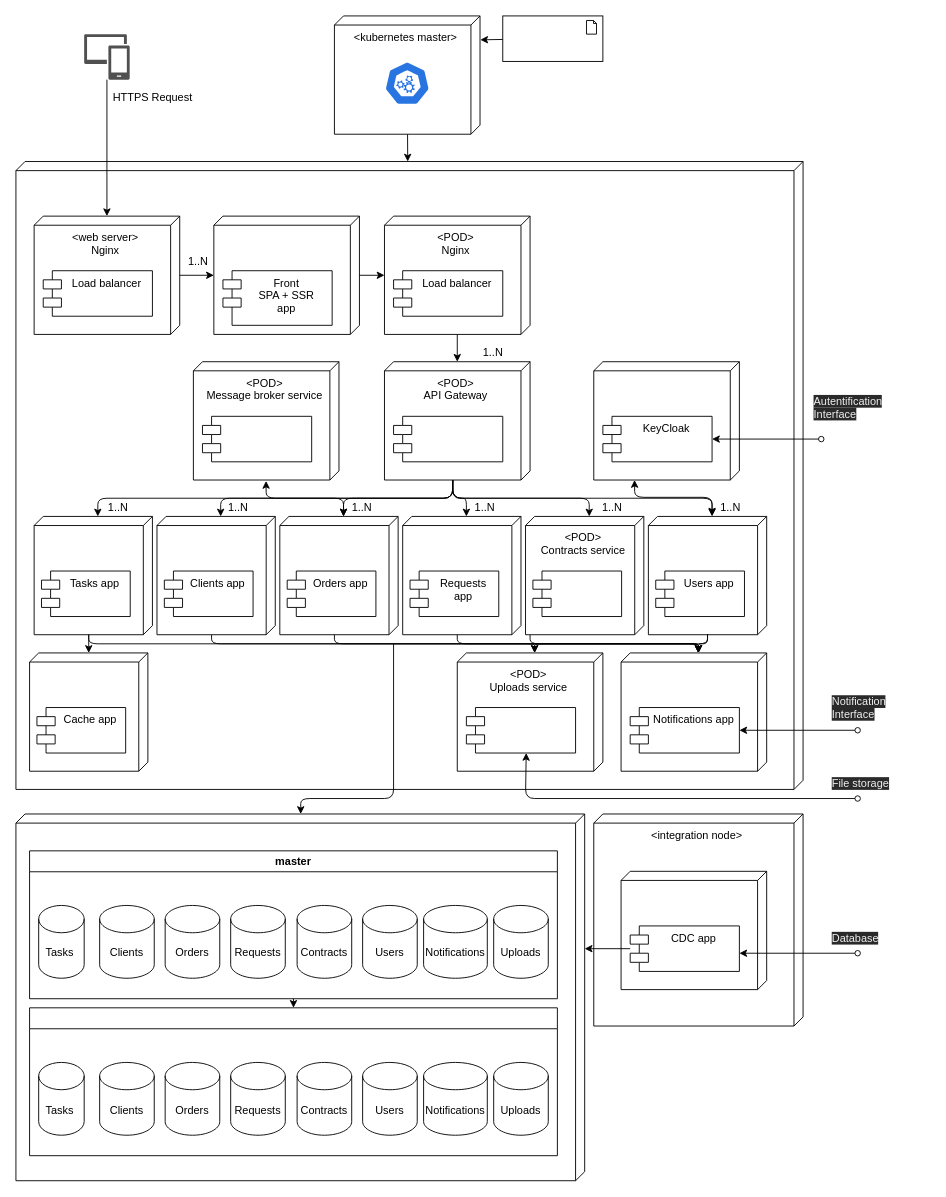
This 946x1197 diagram has some shape labels left out. The shapes that lost their labels are listed below. From the top down, each one's box as (x1, y1, x2, y2) in pixels, then its label:
(502, 15, 603, 61): configuration
(213, 215, 359, 334): <POD> Node Front Application
(202, 415, 312, 462): Broker app
(393, 415, 503, 462): API Gateway
(593, 361, 739, 480): <POD> Auth service
(15, 161, 803, 789): <kubernetes cluster>
(33, 516, 152, 635): <POD> Tasks service
(156, 516, 275, 635): <POD> Clients service
(279, 516, 398, 635): <POD> Orders service
(402, 516, 521, 635): <POD> Requests service
(532, 570, 622, 617): Contracts app
(647, 516, 767, 635): <POD> Users service
(29, 652, 148, 771): <POD> Tasks cache service
(465, 707, 576, 753): Uploads app
(620, 652, 767, 771): <POD> Notifications service
(620, 870, 767, 990): <worker> CDC service
(15, 813, 585, 1181): <database cluster>
(29, 1007, 557, 1156): replication
